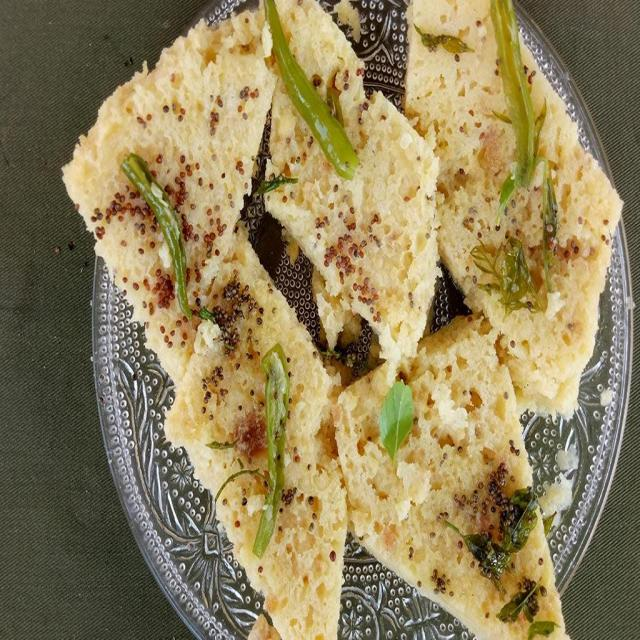dhokla: (121, 0, 590, 640)
